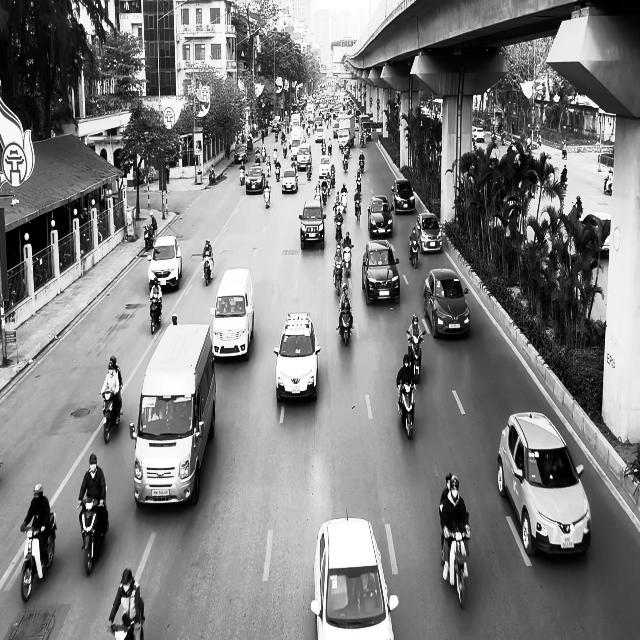car: (497, 411, 591, 557), (310, 510, 399, 640), (273, 312, 321, 402), (210, 266, 254, 362), (423, 268, 470, 338), (362, 239, 400, 305), (147, 235, 182, 291), (298, 198, 326, 250), (415, 212, 443, 254), (367, 195, 393, 238), (391, 178, 415, 214)
motorbike: (20, 513, 56, 602), (441, 520, 470, 609), (77, 498, 109, 576), (99, 385, 122, 443), (397, 381, 416, 439), (408, 330, 425, 382), (338, 308, 352, 347), (149, 299, 162, 334), (201, 253, 213, 286), (409, 238, 419, 268), (144, 225, 154, 250), (263, 185, 271, 208), (354, 197, 361, 223), (239, 165, 245, 185)
truck: (129, 314, 216, 507)
